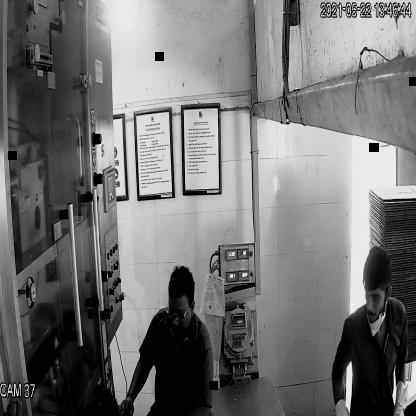goggles: (163, 304, 194, 324)
no_goggles: (361, 288, 388, 308)
